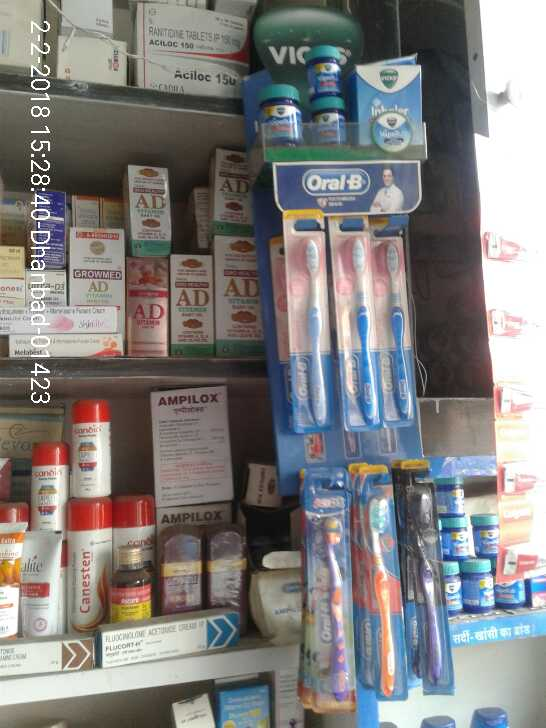pharmacy: (434, 477, 526, 598), (282, 216, 330, 421), (295, 484, 340, 675), (407, 477, 444, 699), (340, 221, 378, 429), (369, 221, 406, 424), (361, 61, 430, 148), (366, 473, 394, 686), (256, 83, 304, 145), (302, 49, 343, 98), (308, 95, 349, 134)
